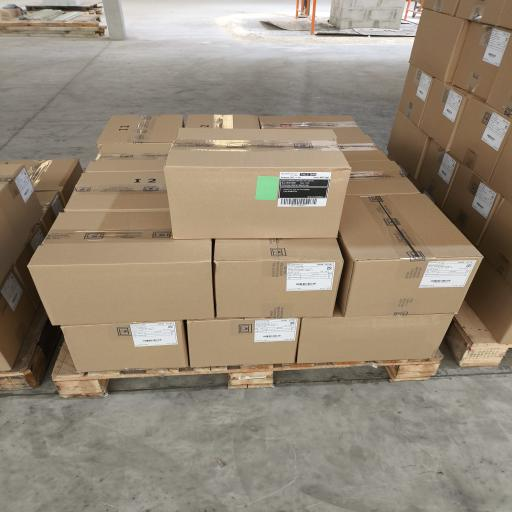pallet: (52, 343, 442, 398), (0, 306, 61, 390), (445, 302, 511, 366), (26, 3, 102, 14)
